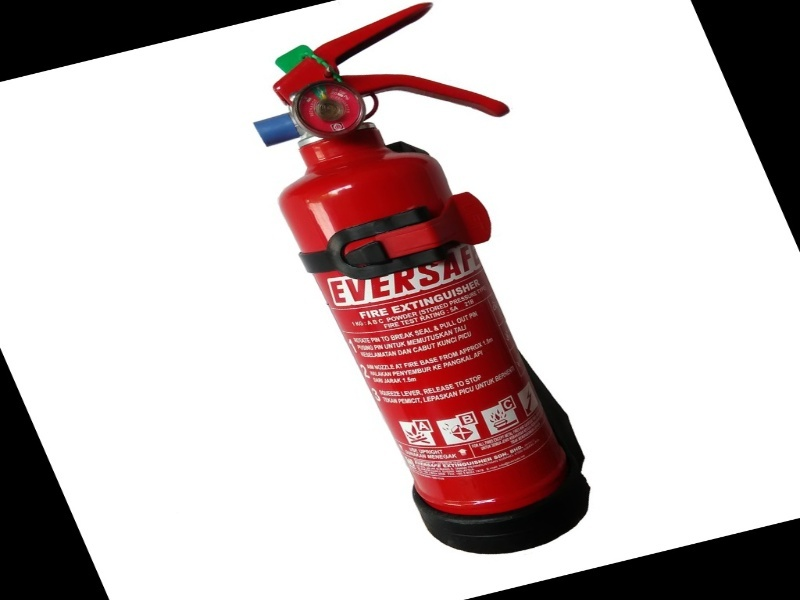fire_extinguisher: (250, 20, 627, 556)
